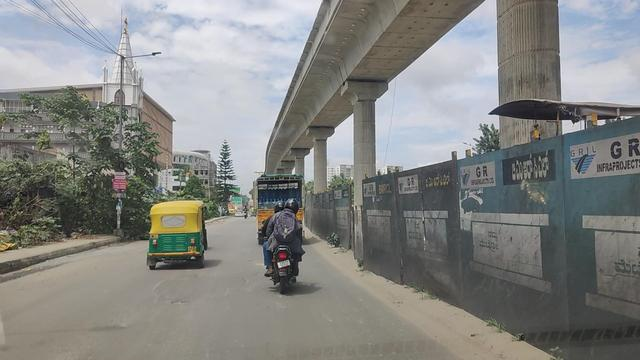HMV: (251, 174, 307, 242)
LMV: (142, 204, 207, 268), (263, 196, 303, 292)
RoadDamages: (164, 294, 194, 311)
